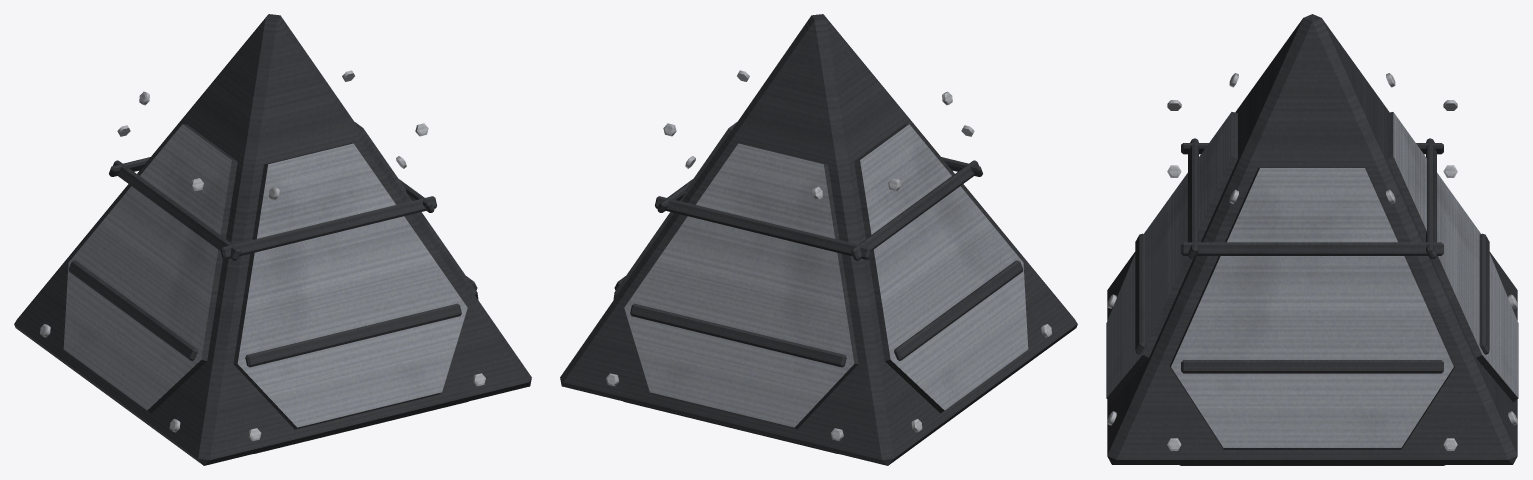
3 views of the same model, side by side, from view 1: azimuth 30°, elevation 25°; view 2: azimuth 150°, elevation 25°; view 3: azimuth 270°, elevation 25° (orthographic). The views are drawn at different scales.
Parts seen in each view (by area): view 1: R4B_Pyramid; view 2: R4B_Pyramid; view 3: R4B_Pyramid.
Boxes of the visible parts, left/top/right/bottom form: R4B_Pyramid: left=14, top=14, right=531, bottom=465; R4B_Pyramid: left=560, top=14, right=1077, bottom=465; R4B_Pyramid: left=1106, top=14, right=1518, bottom=465.
Bounding box in the file's own units: 0.487 × 0.4802 × 0.487.
Materials: 3 (3 with a texture image).
